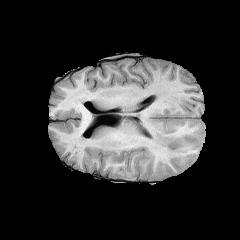glioma: (144, 78, 196, 166)
